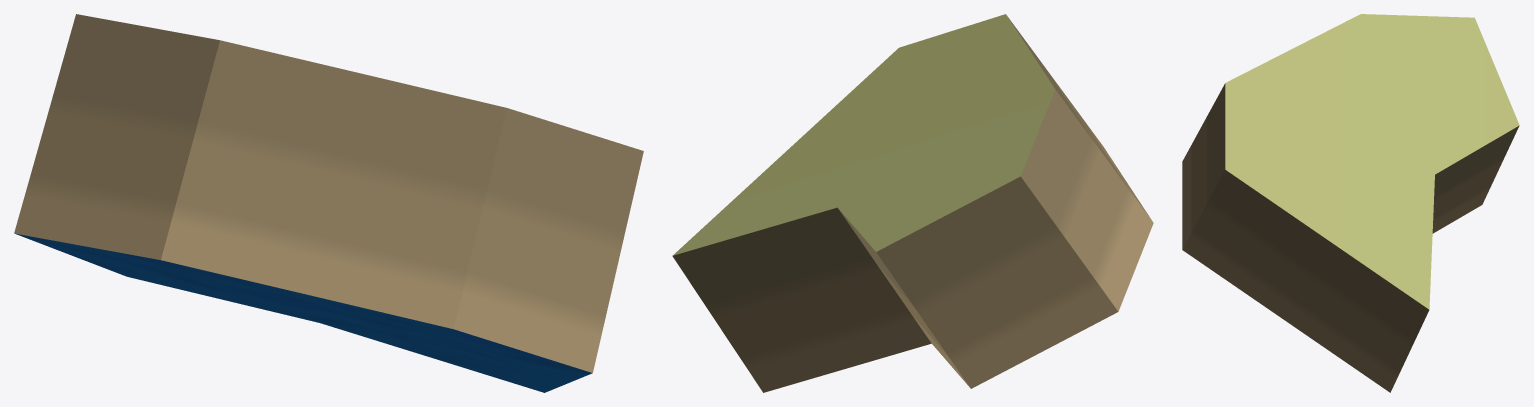
The model's file is 064a_Zimbabwe.glb.
3 renders of one model, left to right at view 1: azimuth 30°, elevation 25°; view 2: azimuth 150°, elevation 25°; view 3: azimuth 270°, elevation 25°, orthographic. The views are drawn at different scales.
Parts seen in each view (by area): view 1: part_0; view 2: part_0; view 3: part_0.
Part boxes in pixels (x1,y1,x2,y2): part_0: (14,14,643,392); part_0: (672,14,1153,392); part_0: (1182,14,1519,392).
Bounding box in the file's own units: 0.5824 × 0.4399 × 0.4875.
1 material, 1 textured.
